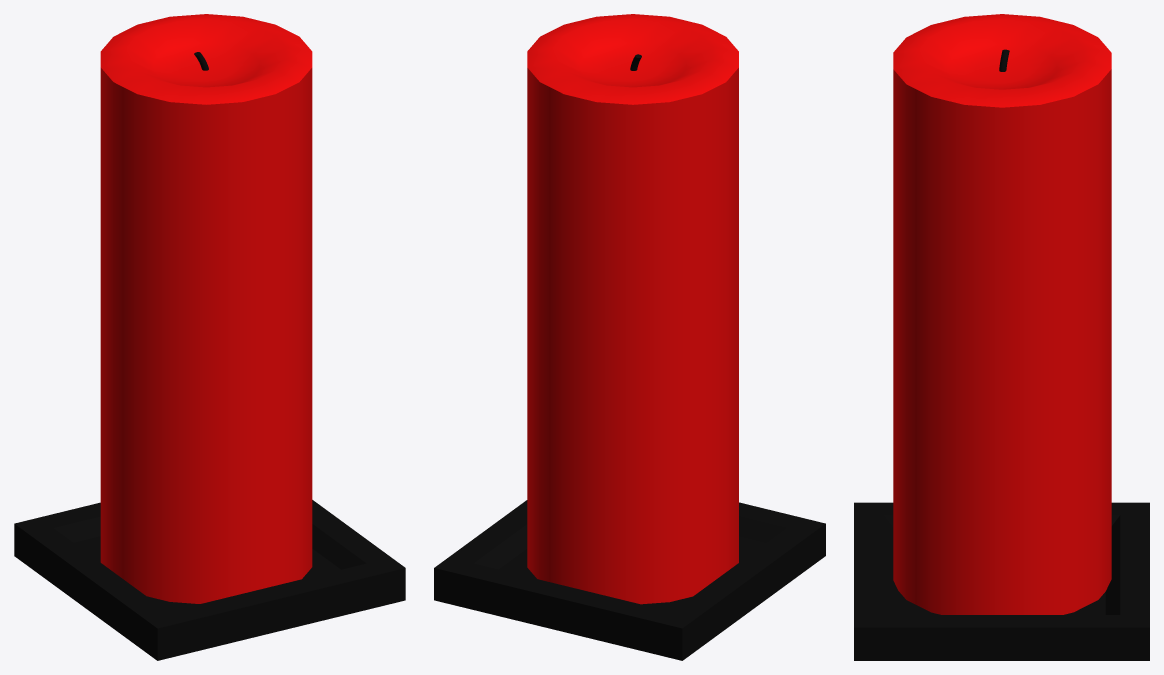
File: Candle-einfarbig.FBX
The picture shows the model from 3 angles, left to right: view 1: azimuth 30°, elevation 25°; view 2: azimuth 150°, elevation 25°; view 3: azimuth 270°, elevation 25°; orthographic projection. The views are drawn at different scales.
Parts seen in each view (by area): view 1: Cylinder001, Box001; view 2: Cylinder001, Box001; view 3: Cylinder001, Box001.
Boxes of the visible parts, x1,y1,x2,y2 form: Cylinder001: (100,14,312,603); Box001: (14,500,405,660); Cylinder001: (527,14,738,604); Box001: (434,500,825,660); Cylinder001: (893,14,1111,614); Box001: (854,502,1149,660).
Bounding box in the file's own units: 3.15 × 6.38 × 3.15.
